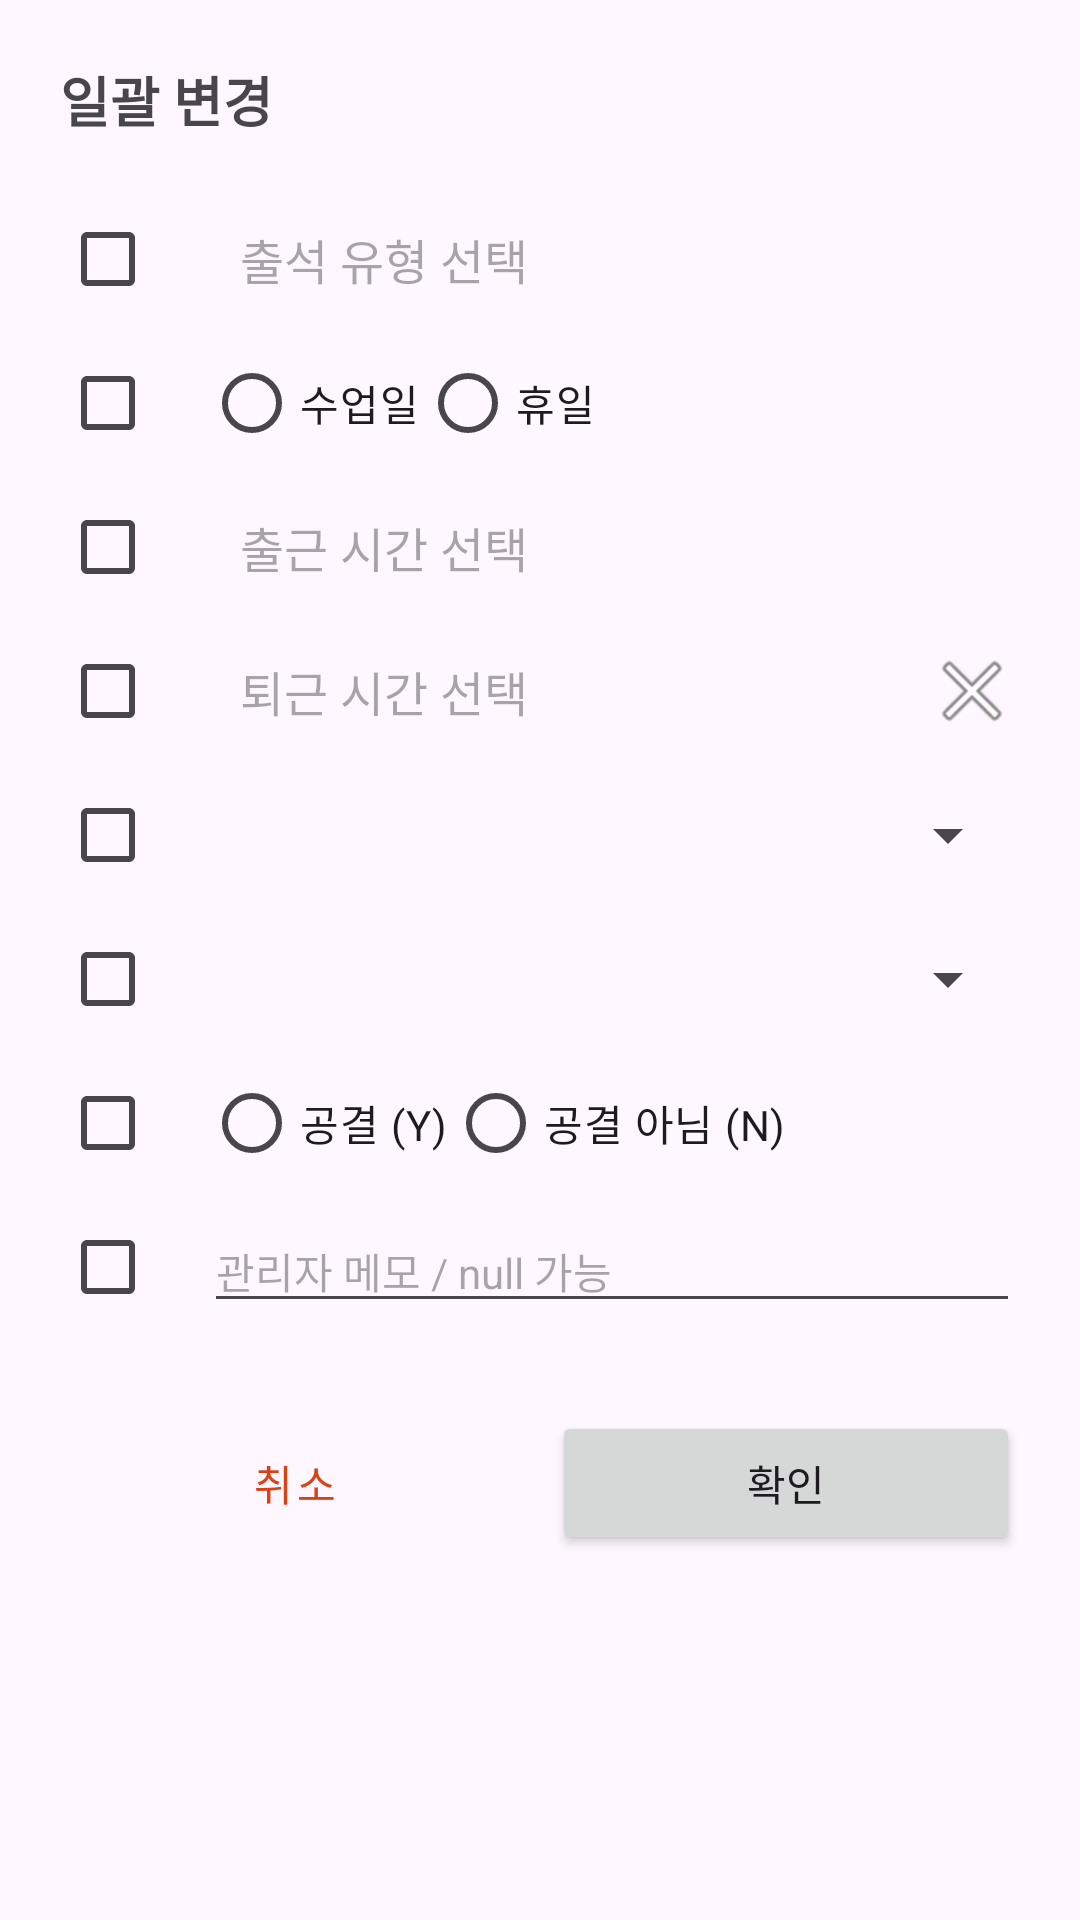

Locate icon controls on the screen. Image size 1080px x 1920px, boxes as (x1, y1, x2, y2).
퇴근 시간 삭제: (942, 661, 1002, 721)
